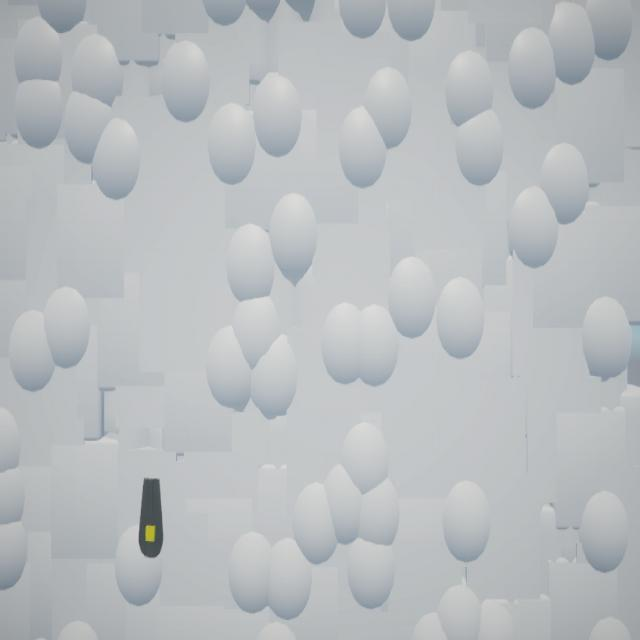handle_folk: (139, 479, 164, 559)
